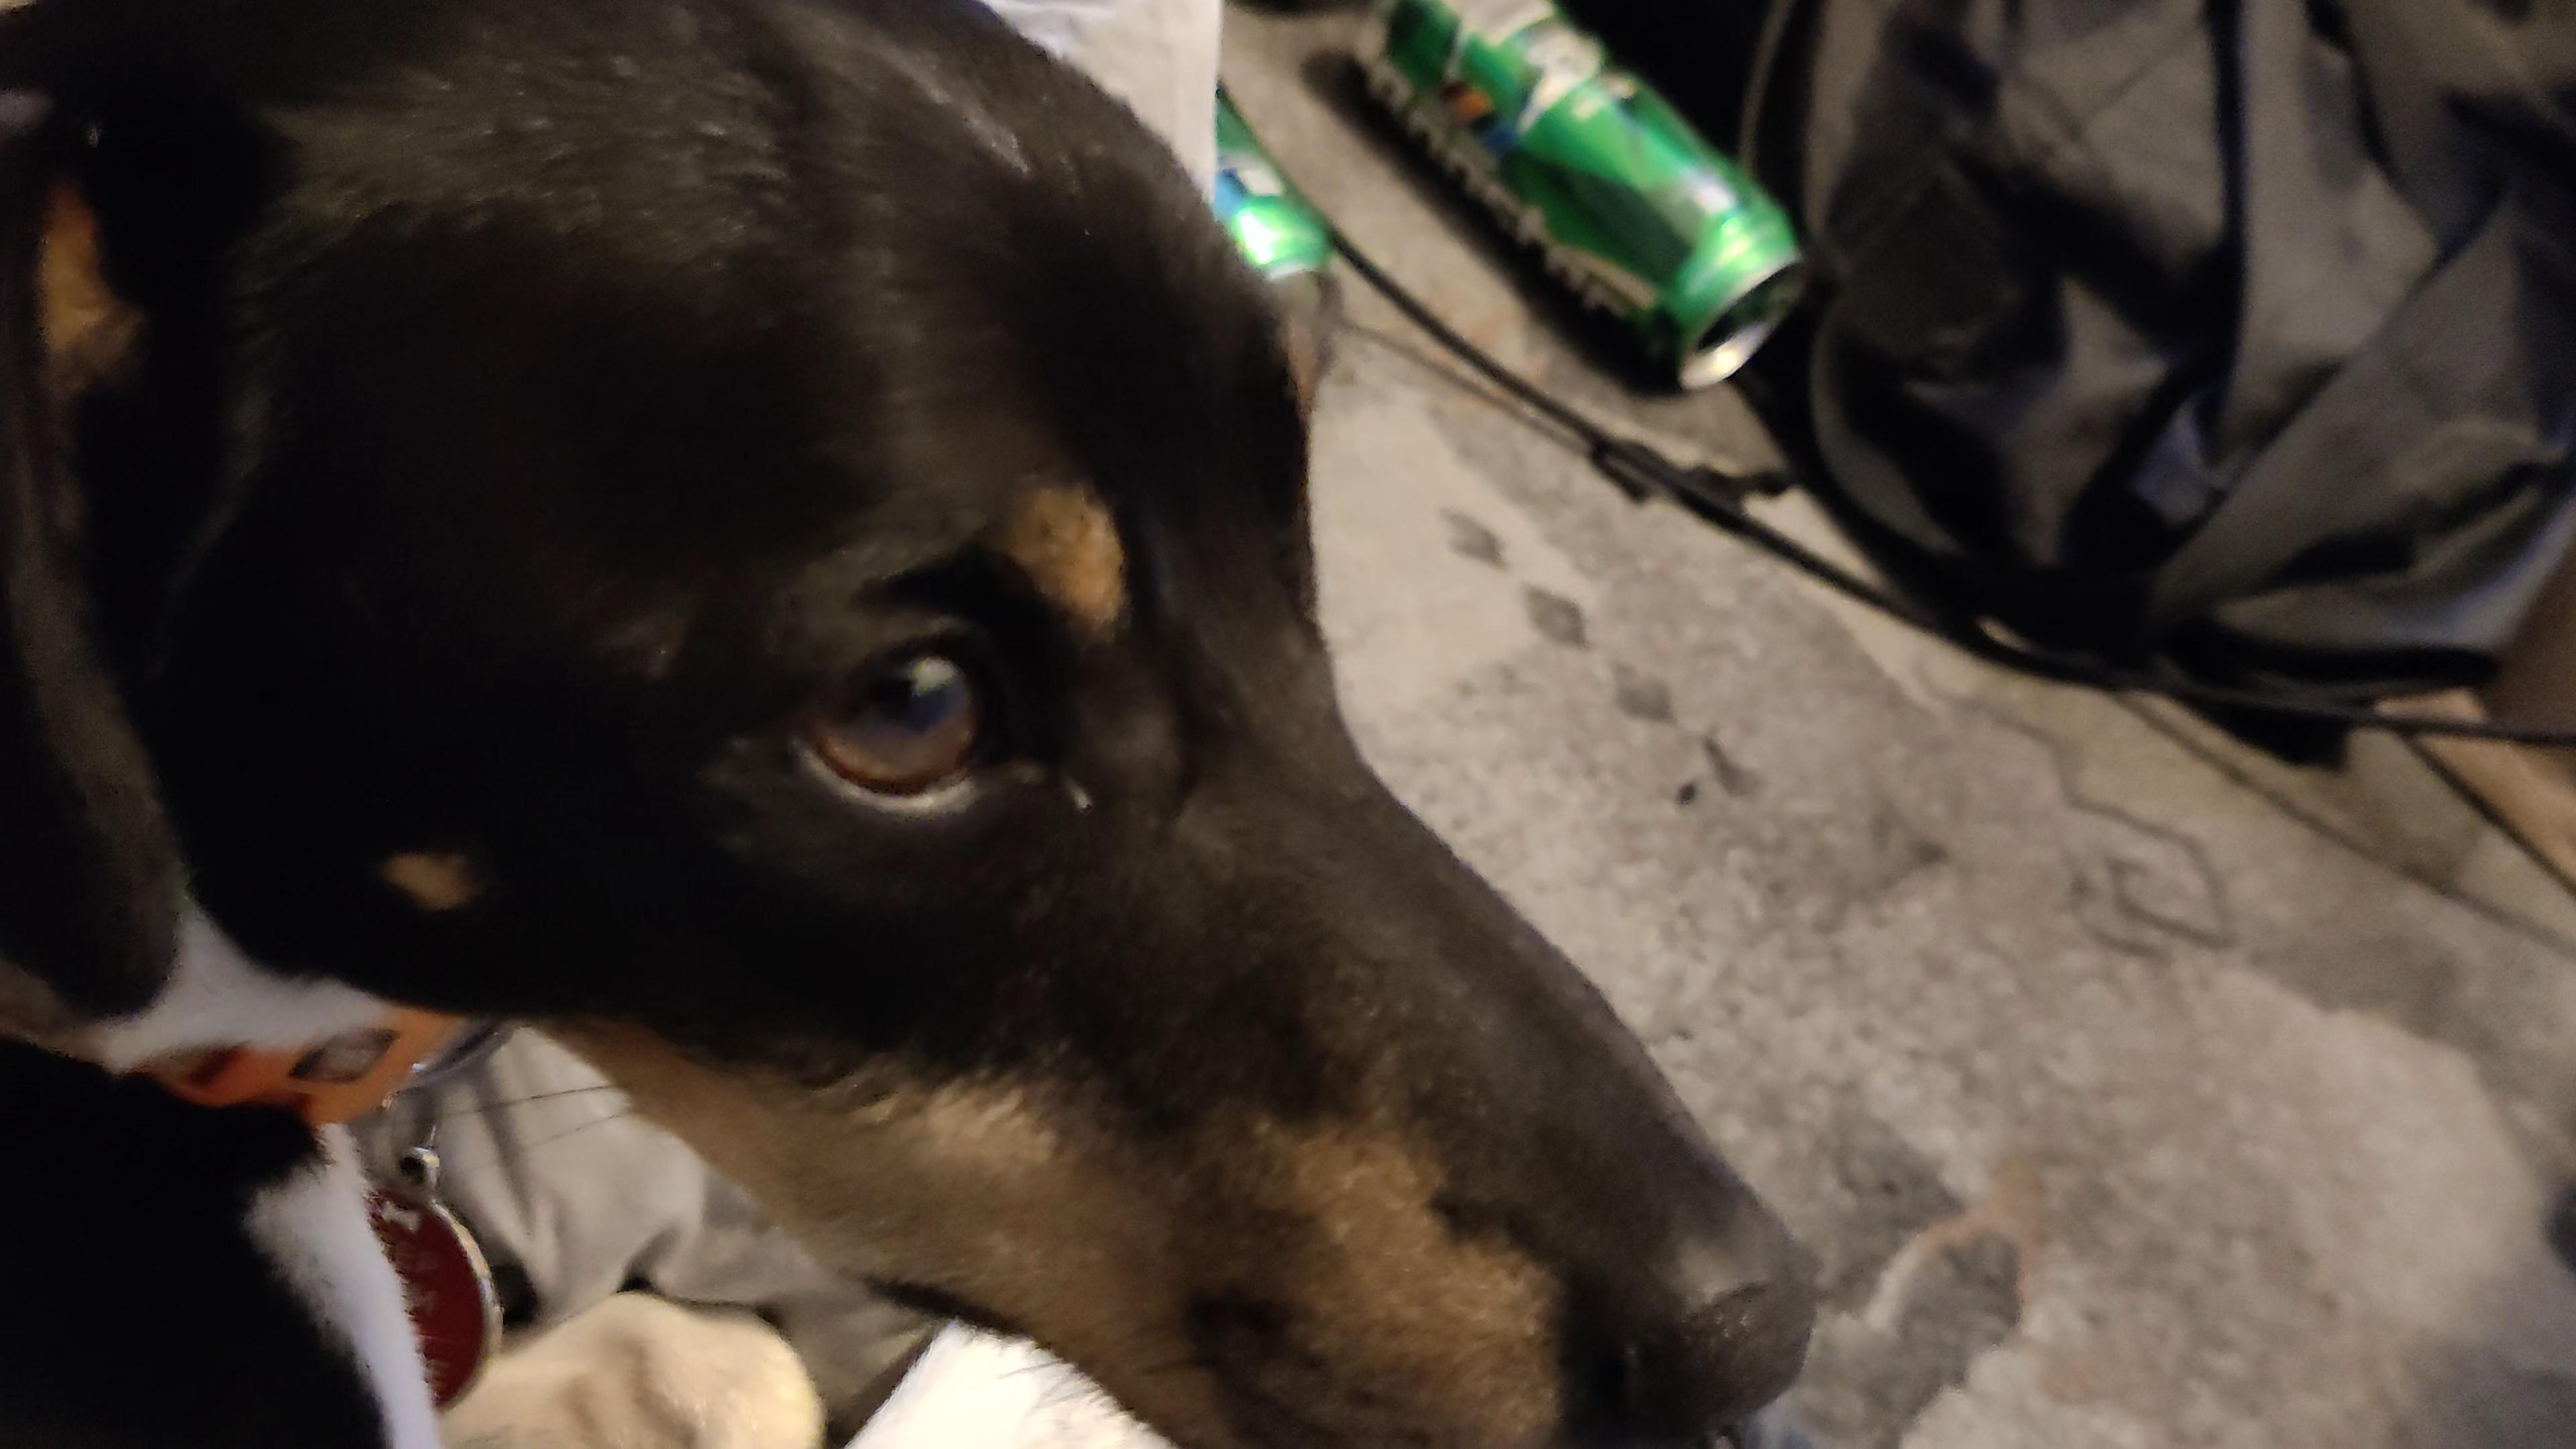Dog: (0, 0, 1874, 1449)
